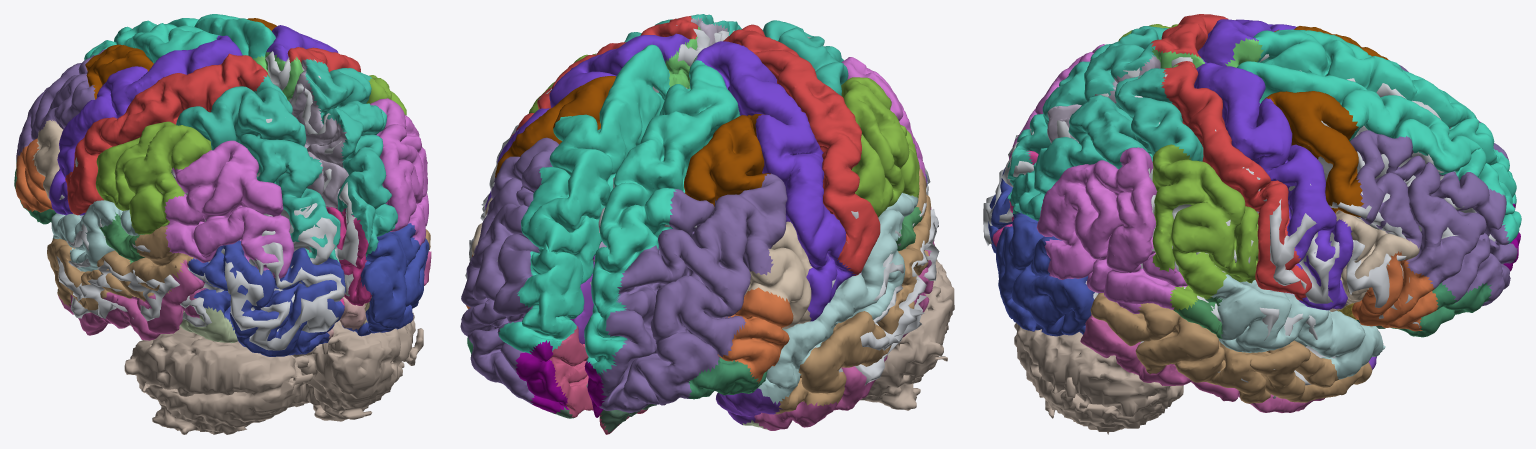
The model's file is mindboggle_oas1_0368_cortex_v44_medial.glb.
3 renders of one model, left to right at view 1: azimuth 30°, elevation 25°; view 2: azimuth 150°, elevation 25°; view 3: azimuth 270°, elevation 25°, orthographic. The views are drawn at different scales.
Parts seen in each view (by area): view 1: S_8, C_lh_inferiorparietal, S_2, C_lh_superiorparietal, C_lh_postcentral, C_rh_superiorparietal, S_47, C_lh_lateraloccipital, C_lh_supramarginal, C_lh_precentral, C_rh_lateraloccipital, C_rh_inferiorparietal (+19 smaller); view 2: C_lh_rostralmiddlefrontal, C_rh_superiorfrontal, C_lh_superiorfrontal, C_lh_precentral, C_rh_rostralmiddlefrontal, C_lh_postcentral, C_lh_superiortemporal, C_lh_middletemporal, C_lh_supramarginal, S_8, C_lh_caudalmiddlefrontal, C_lh_parstriangularis (+19 smaller); view 3: C_rh_rostralmiddlefrontal, C_rh_inferiorparietal, C_rh_middletemporal, C_rh_supramarginal, C_rh_precentral, C_rh_superiorparietal, S_47, C_rh_superiorfrontal, C_lh_superiorfrontal, C_rh_postcentral, C_rh_superiortemporal, S_41 (+15 smaller).
Boxes of the visible parts, x1,y1,x2,y2 form: S_8: (124,326,316,434); C_lh_inferiorparietal: (164,140,294,278); S_2: (56,118,344,350); C_lh_superiorparietal: (176,75,340,262); C_lh_postcentral: (65,53,268,215); C_rh_superiorparietal: (305,59,397,257); S_47: (287,312,423,421); C_lh_lateraloccipital: (188,240,345,356); C_lh_supramarginal: (95,121,211,234); C_lh_precentral: (49,35,242,215); C_rh_lateraloccipital: (342,223,429,336); C_rh_inferiorparietal: (370,98,428,245); C_lh_rostralmiddlefrontal: (598,173,787,413); C_rh_superiorfrontal: (498,44,669,354); C_lh_superiorfrontal: (584,60,740,374); C_lh_precentral: (694,41,856,321); C_rh_rostralmiddlefrontal: (460,137,558,404); C_lh_postcentral: (723,24,880,275); C_lh_superiortemporal: (758,192,918,404); C_lh_middletemporal: (774,168,931,414); C_lh_supramarginal: (841,77,919,217); S_8: (860,259,954,410); C_lh_caudalmiddlefrontal: (684,114,770,206); C_lh_parstriangularis: (717,287,793,383); C_rh_rostralmiddlefrontal: (1350,130,1517,306); C_rh_inferiorparietal: (1036,147,1187,313); C_rh_middletemporal: (1090,293,1372,403); C_rh_supramarginal: (1152,144,1258,310); C_rh_precentral: (1194,62,1353,310); C_rh_superiorparietal: (1009,68,1203,221); S_47: (1014,322,1183,434); C_rh_superiorfrontal: (1237,61,1521,243); C_lh_superiorfrontal: (1253,29,1516,204); C_rh_postcentral: (1161,61,1311,300); C_rh_superiortemporal: (1210,274,1385,379); S_41: (1085,66,1495,398).
Bounding box in the file's own units: 133 × 135 × 175.
